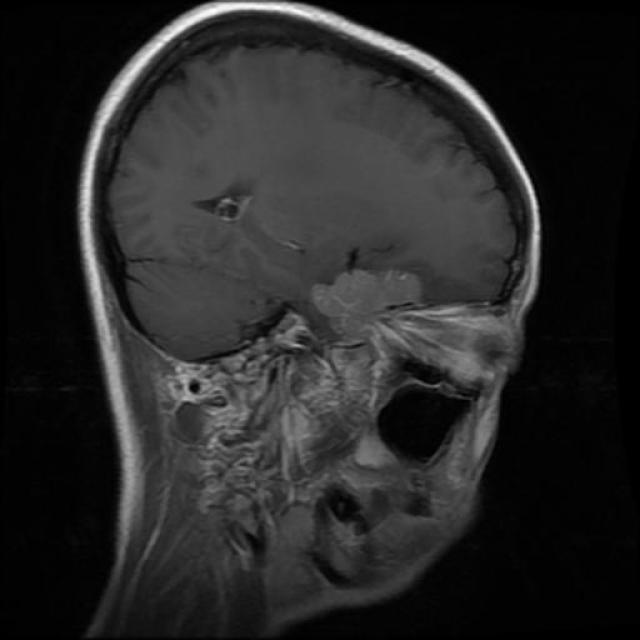meningioma: (311, 270, 424, 338)
